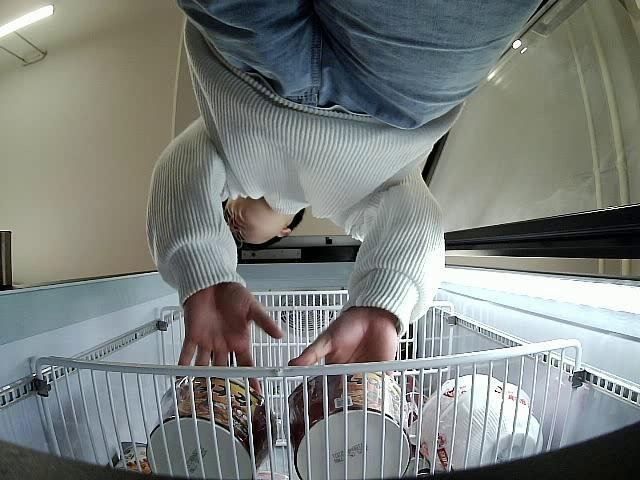05_nuguri_L: (146, 373, 278, 480), (284, 374, 412, 480)
